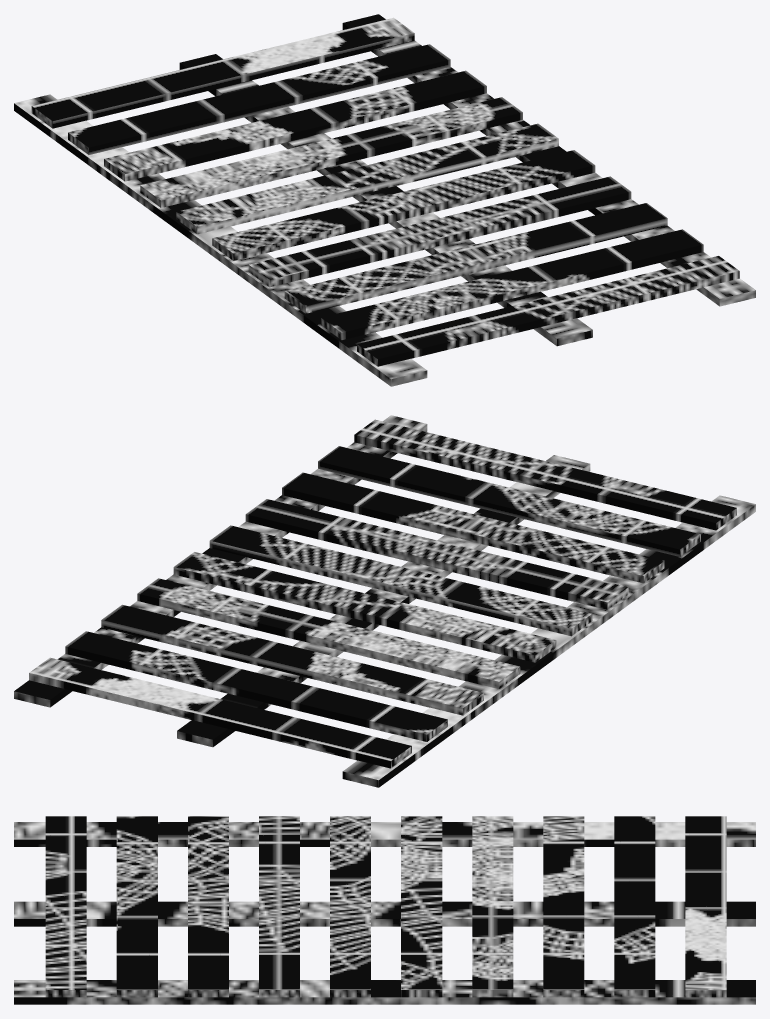
The model's file is Flooring.obj.
The picture shows the model from 3 angles, top to bottom: view 1: azimuth 30°, elevation 25°; view 2: azimuth 150°, elevation 25°; view 3: azimuth 270°, elevation 25°; orthographic projection.
Visible parts, largest first — view 1: trap; view 2: trap; view 3: trap.
Part boxes in pixels (left/top/right/bottom): trap: left=14, top=14, right=755, bottom=386; trap: left=14, top=415, right=755, bottom=787; trap: left=14, top=816, right=755, bottom=1004.
Bounding box in the file's own units: 10.08 × 0.3956 × 18.05.
